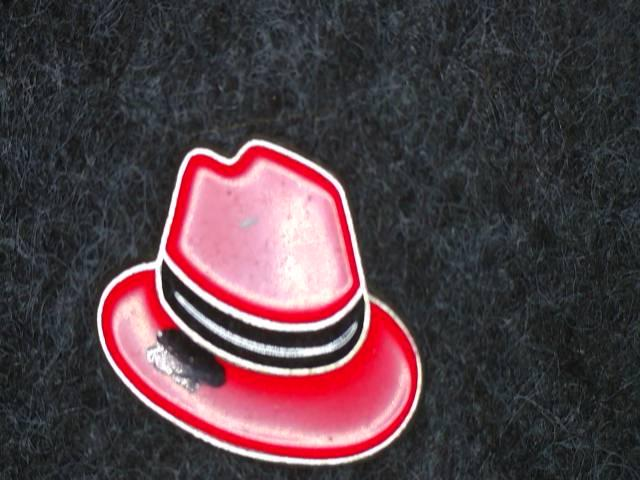Red-Hat: (55, 116, 471, 479)
Scratch: (135, 316, 231, 398)
